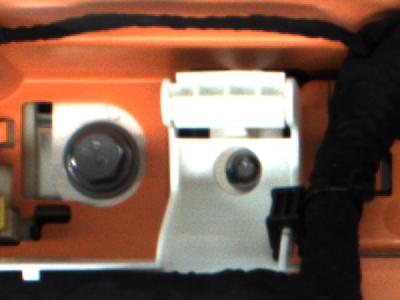nut_b: (58, 116, 151, 205)
